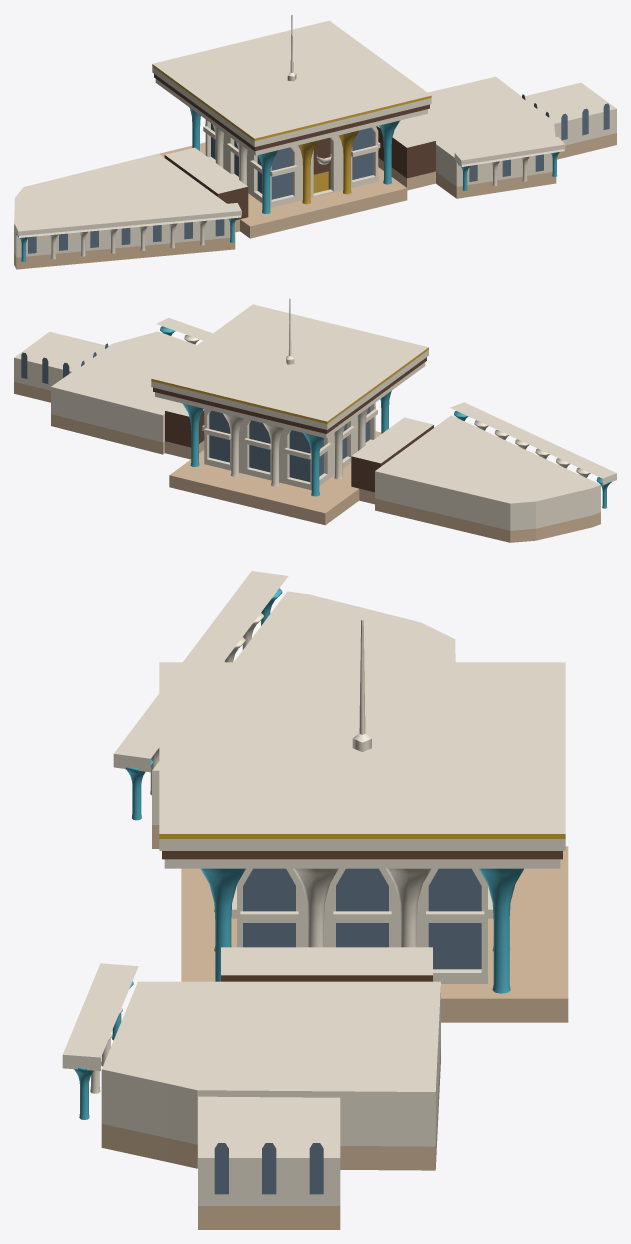
File: muscat-al-alam-palace.glb
3 views of the same model, one above another, from view 1: azimuth 30°, elevation 25°; view 2: azimuth 150°, elevation 25°; view 3: azimuth 270°, elevation 25° (orthographic). The views are drawn at different scales.
Visible parts, largest first — view 1: Al Alam Palace; view 2: Al Alam Palace; view 3: Al Alam Palace.
Part boxes in pixels (bbox=[...]): Al Alam Palace: bbox=[14, 15, 616, 269]; Al Alam Palace: bbox=[14, 298, 616, 542]; Al Alam Palace: bbox=[62, 571, 568, 1229].
Bounding box in the file's own units: 152 × 42.05 × 57.22.
